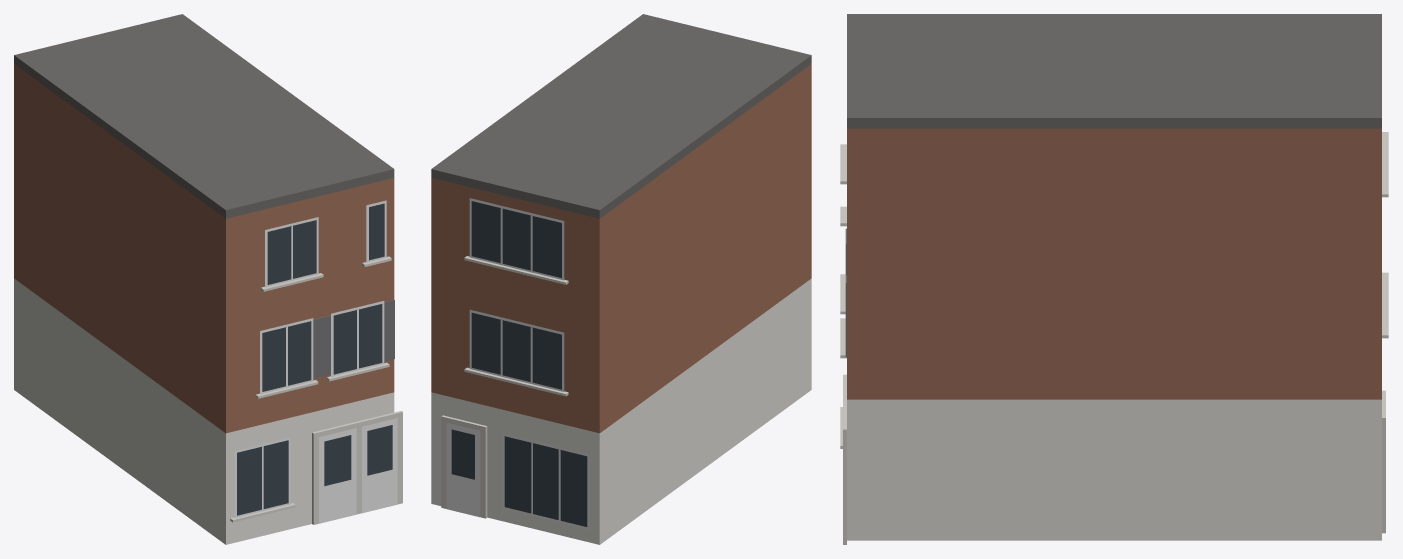
File: nw-ns-red-three__red__3__flat__long__solid.glb
The picture shows the model from 3 angles, left to right: view 1: azimuth 30°, elevation 25°; view 2: azimuth 150°, elevation 25°; view 3: azimuth 270°, elevation 25°; orthographic projection. The views are drawn at different scales.
Visible parts, largest first — view 1: nw-ns-red-three__red__3__flat__long__solid; view 2: nw-ns-red-three__red__3__flat__long__solid; view 3: nw-ns-red-three__red__3__flat__long__solid.
Boxes of the visible parts, <box> form: nw-ns-red-three__red__3__flat__long__solid: <box>14,14,402,544</box>; nw-ns-red-three__red__3__flat__long__solid: <box>431,14,811,544</box>; nw-ns-red-three__red__3__flat__long__solid: <box>840,14,1388,544</box>.
Size of the model in its own units: 4.67 by 8.5 by 9.99.
